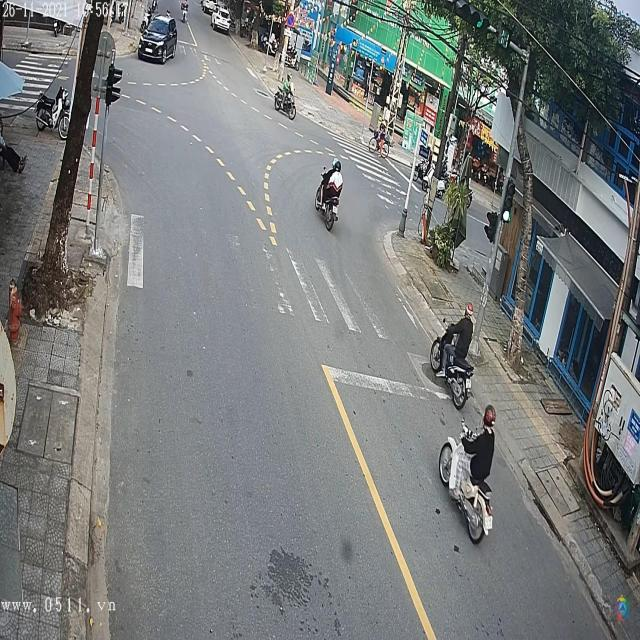car: (136, 18, 178, 68)
motorcycle: (437, 420, 494, 546), (428, 307, 478, 409), (315, 166, 341, 235), (274, 79, 297, 121)
